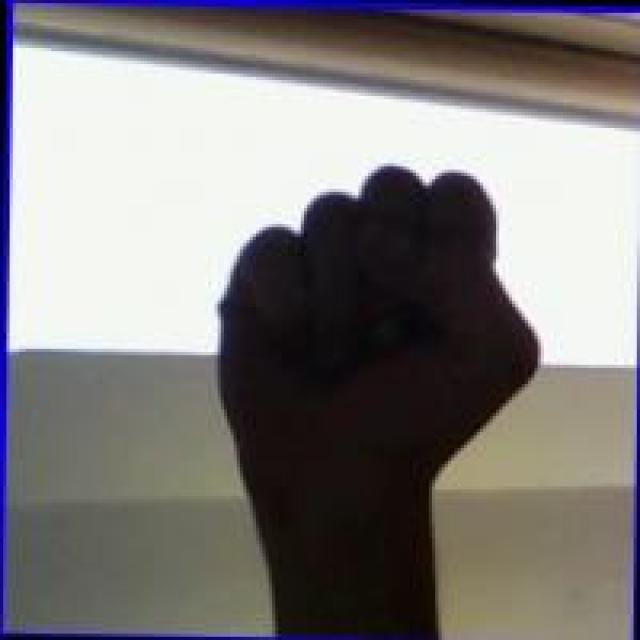S: (203, 152, 549, 498)
